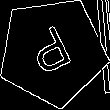P_SE: (25, 21, 80, 83)
